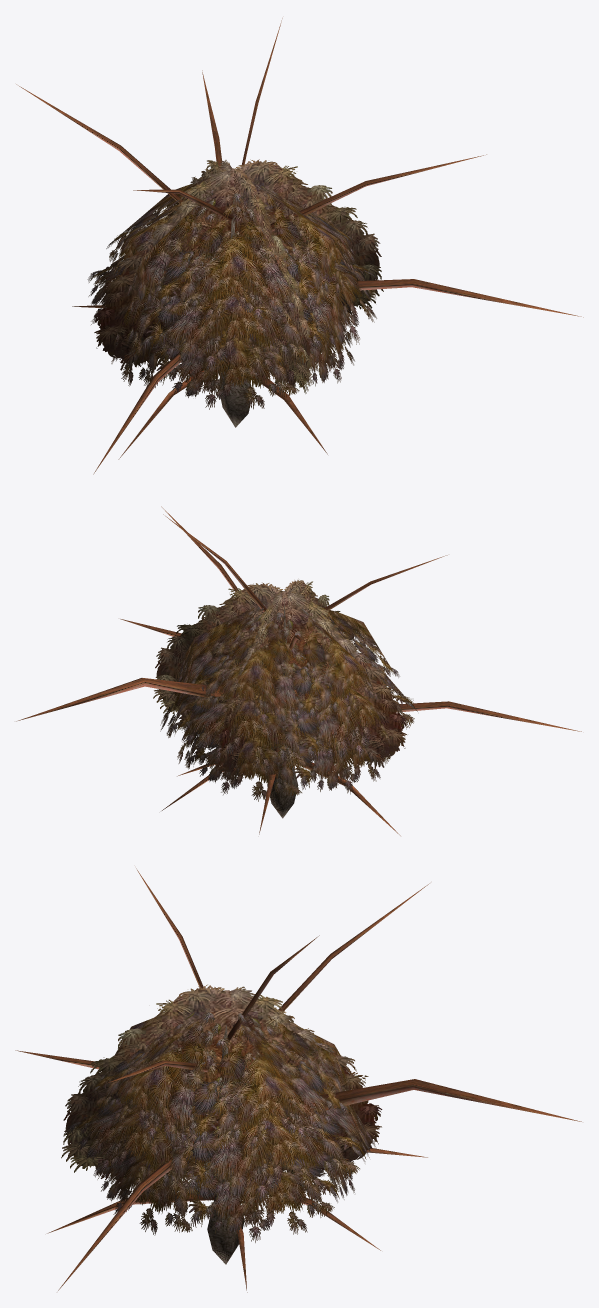
File: shrb_yavn_clawthorn_l2.fbx
3 renders of one model, top to bottom at view 1: azimuth 30°, elevation 25°; view 2: azimuth 150°, elevation 25°; view 3: azimuth 270°, elevation 25°, orthographic. The views are drawn at different scales.
Parts seen in each view (by area): view 1: mesh_node; view 2: mesh_node; view 3: mesh_node.
Boxes of the visible parts, <box> form: mesh_node: <box>16,18,583,474</box>; mesh_node: <box>16,506,581,835</box>; mesh_node: <box>15,868,581,1292</box>.
Bounding box in the file's own units: 3.43 × 2.29 × 3.13.
